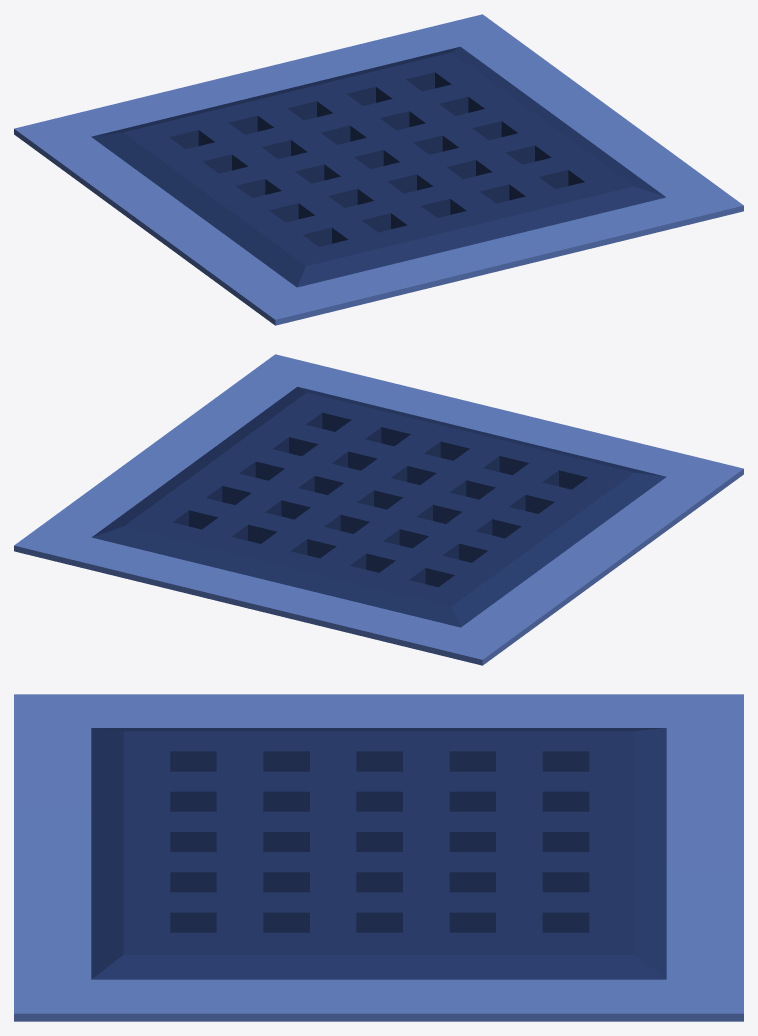
Rendered from loophole (2).fbx.
The picture shows the model from 3 angles, top to bottom: view 1: azimuth 30°, elevation 25°; view 2: azimuth 150°, elevation 25°; view 3: azimuth 270°, elevation 25°; orthographic projection. The views are drawn at different scales.
Visible parts, largest first — view 1: loophole; view 2: loophole; view 3: loophole.
Part boxes in pixels (x1,y1,x2,y2): loophole: (14, 14, 743, 325); loophole: (14, 354, 743, 665); loophole: (14, 694, 743, 1021).
Size of the model in its own units: 205 by 8.87 by 198.
